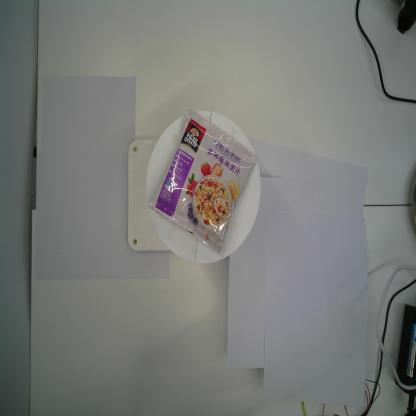Instant Drink: (148, 108, 258, 255)
